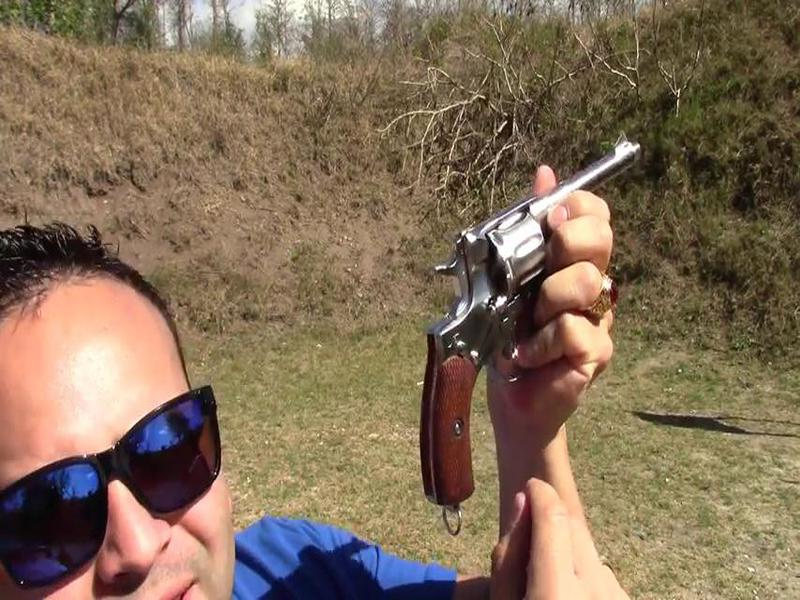Revolver: (392, 133, 651, 493)
